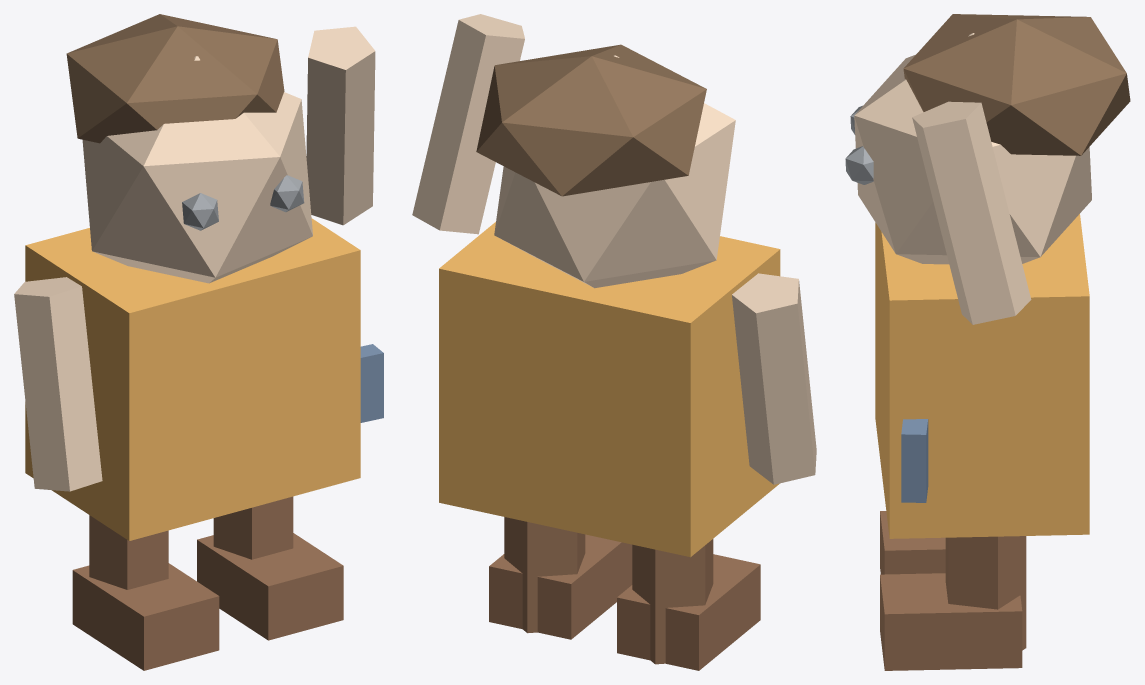
Rendered from npcpose_villager_wave_09.glb.
The picture shows the model from 3 angles, left to right: view 1: azimuth 30°, elevation 25°; view 2: azimuth 150°, elevation 25°; view 3: azimuth 270°, elevation 25°; orthographic projection. The views are drawn at different scales.
Parts seen in each view (by area): view 1: npcpose; view 2: npcpose; view 3: npcpose.
Part boxes in pixels (x1,y1,x2,y2): npcpose: [14, 14, 383, 670]; npcpose: [412, 14, 816, 670]; npcpose: [845, 14, 1130, 670].
Size of the model in its own units: 0.689 by 1.06 by 0.4552.
